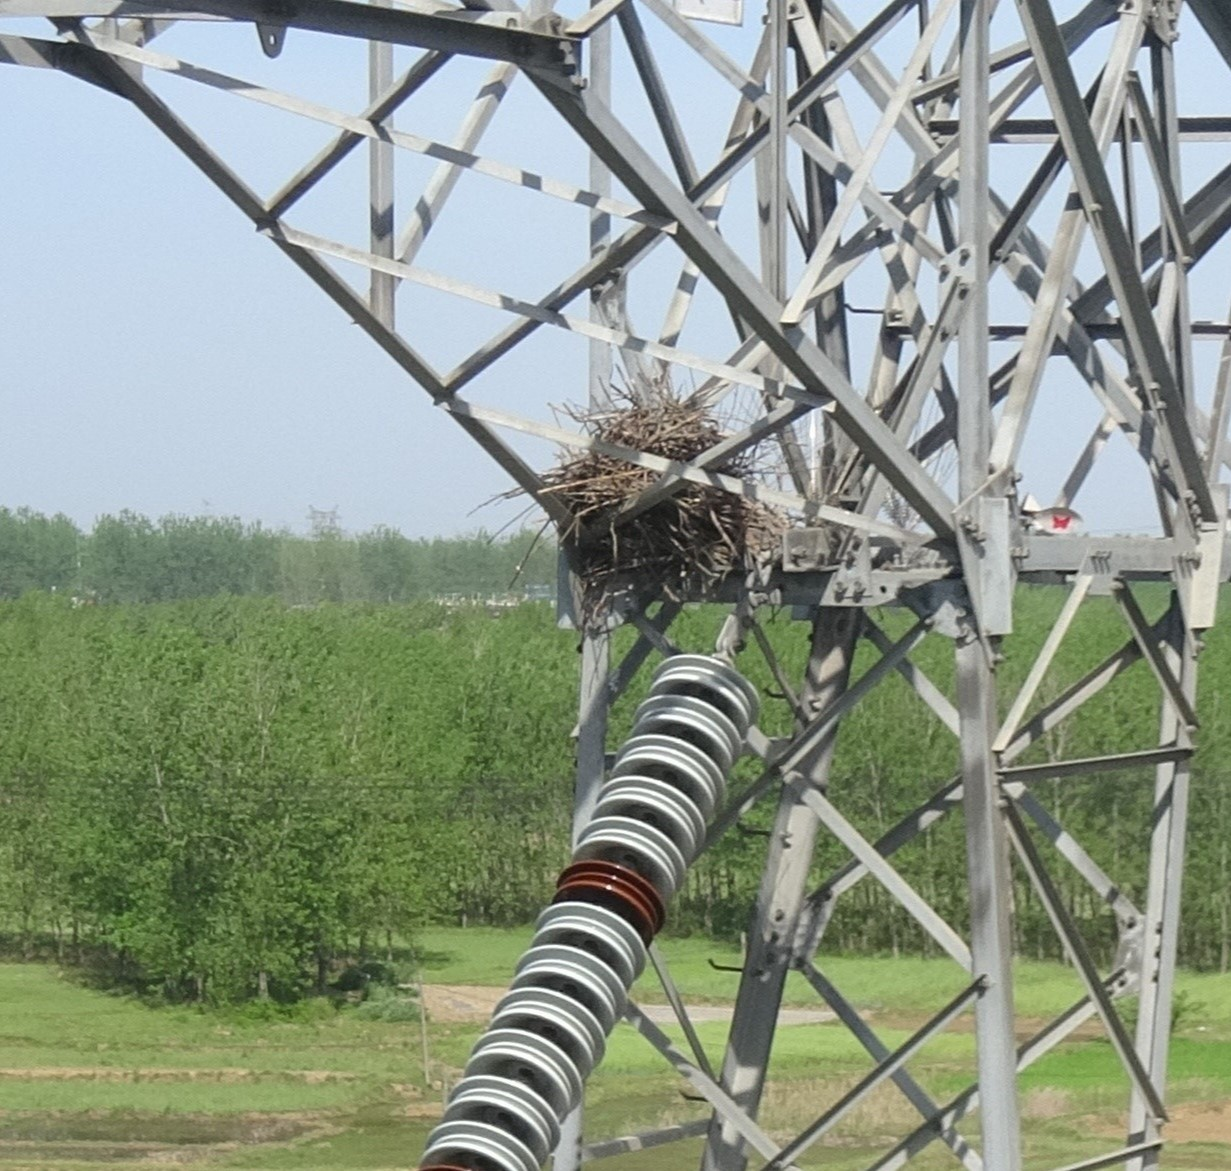niaowo: (528, 387, 792, 603)
